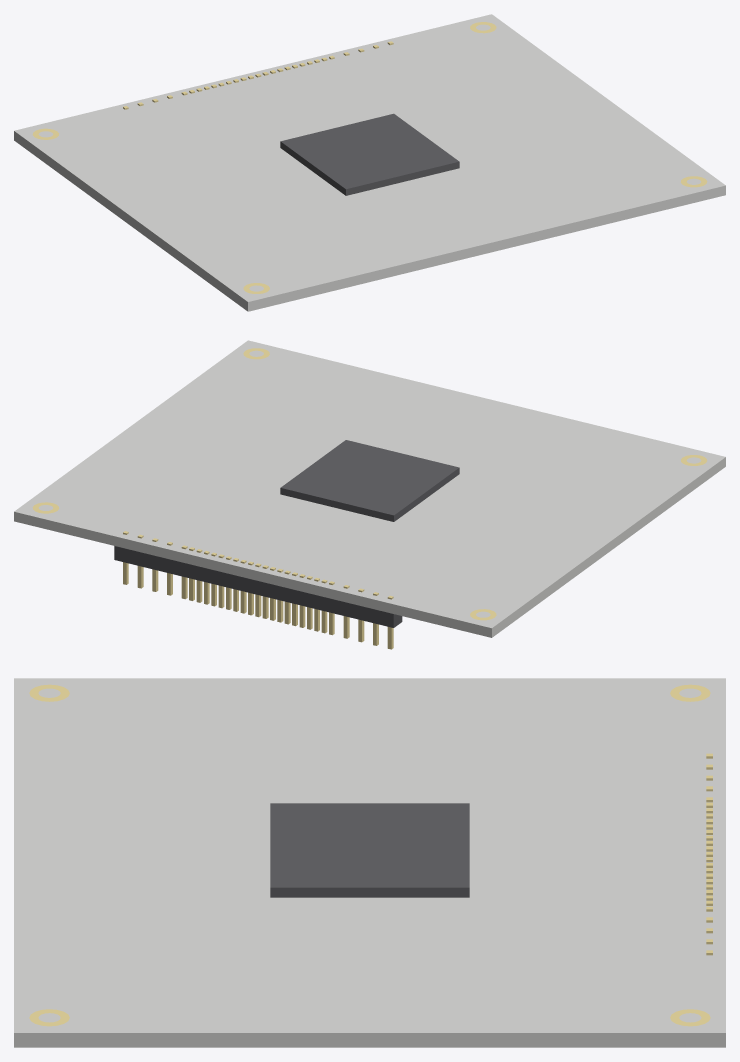
The model's file is nucleo-f401re.glb.
The picture shows the model from 3 angles, top to bottom: view 1: azimuth 30°, elevation 25°; view 2: azimuth 150°, elevation 25°; view 3: azimuth 270°, elevation 25°; orthographic projection. The views are drawn at different scales.
Parts seen in each view (by area): view 1: nucleo-f401re-pcb, nucleo-f401re-ic, nucleo-f401re-mounting-pads, nucleo-f401re-pins; view 2: nucleo-f401re-pcb, nucleo-f401re-ic, nucleo-f401re-pins, nucleo-f401re-plastic, nucleo-f401re-mounting-pads; view 3: nucleo-f401re-pcb, nucleo-f401re-ic, nucleo-f401re-mounting-pads, nucleo-f401re-pins.
Boxes of the visible parts, bbox=[...] form: nucleo-f401re-pcb: bbox=[14, 14, 725, 311]; nucleo-f401re-ic: bbox=[280, 113, 459, 195]; nucleo-f401re-mounting-pads: bbox=[32, 22, 707, 293]; nucleo-f401re-pins: bbox=[123, 41, 393, 109]; nucleo-f401re-pcb: bbox=[14, 340, 725, 637]; nucleo-f401re-ic: bbox=[280, 440, 459, 521]; nucleo-f401re-pins: bbox=[123, 531, 393, 649]; nucleo-f401re-plastic: bbox=[114, 546, 402, 627]; nucleo-f401re-mounting-pads: bbox=[32, 348, 707, 620]; nucleo-f401re-pcb: bbox=[14, 678, 725, 1047]; nucleo-f401re-ic: bbox=[270, 803, 469, 897]; nucleo-f401re-mounting-pads: bbox=[29, 684, 710, 1026]; nucleo-f401re-pins: bbox=[706, 753, 712, 955].
Size of the model in its own units: 0.0825 by 0.00935 by 0.07.
